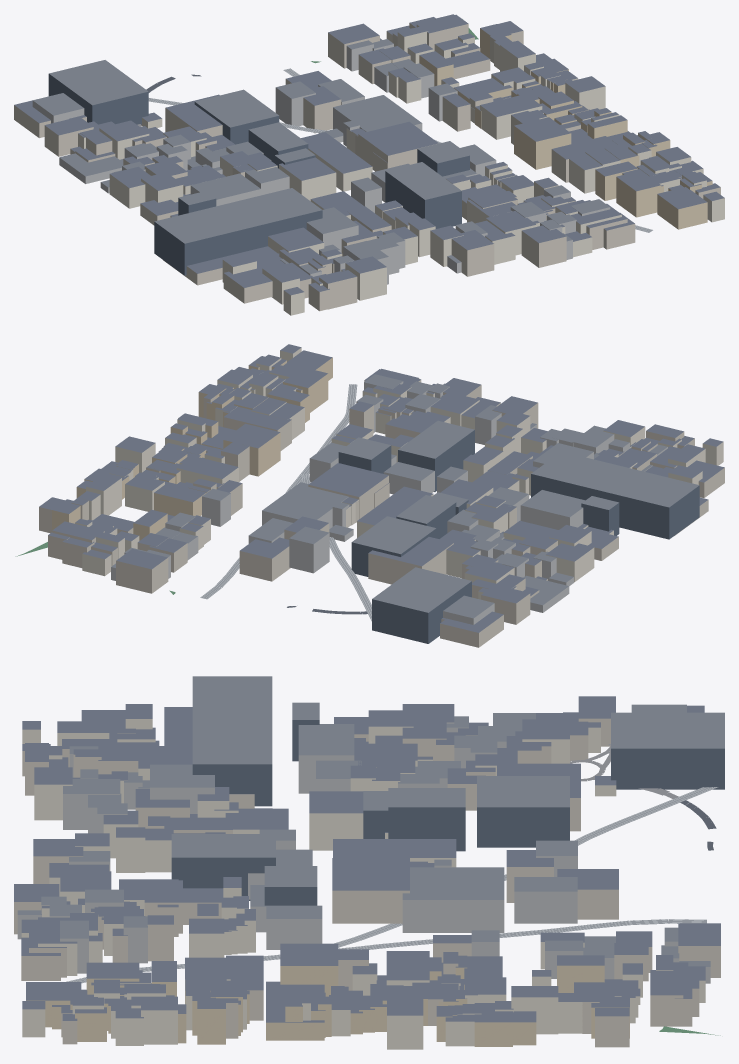
Rendered from tile_3_2_lod1.glb.
3 renders of one model, top to bottom at view 1: azimuth 30°, elevation 25°; view 2: azimuth 150°, elevation 25°; view 3: azimuth 270°, elevation 25°, orthographic. The views are drawn at different scales.
Visible parts, largest first — view 1: TileRoot; view 2: TileRoot; view 3: TileRoot.
Boxes of the visible parts, x1,y1,x2,y2 form: TileRoot: (14,14,724,315); TileRoot: (15,344,724,647); TileRoot: (14,676,724,1049).
Size of the model in its own units: 439 by 42.2 by 417.
